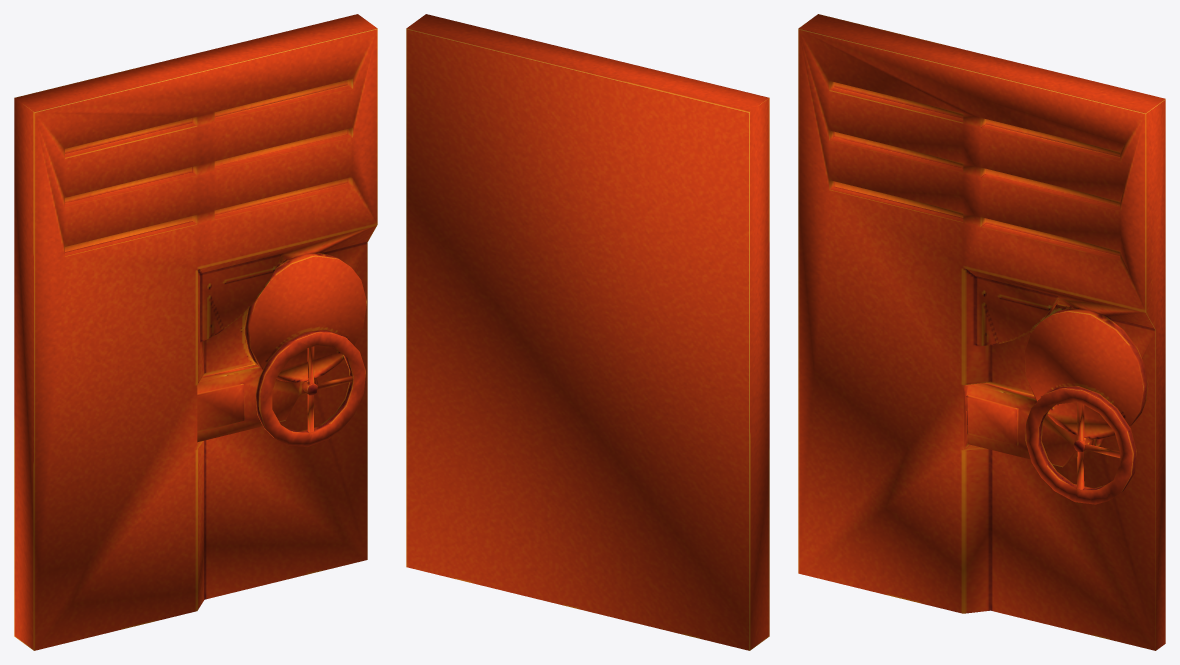
File: door_LOD1.fbx
The picture shows the model from 3 angles, left to right: view 1: azimuth 30°, elevation 25°; view 2: azimuth 150°, elevation 25°; view 3: azimuth 330°, elevation 25°; orthographic projection.
Visible parts, largest first — view 1: door_LOD1; view 2: door_LOD1; view 3: door_LOD1.
Part boxes in pixels (left/top/right/bottom): door_LOD1: left=14, top=14, right=377, bottom=650; door_LOD1: left=406, top=14, right=769, bottom=650; door_LOD1: left=798, top=14, right=1165, bottom=650.
Size of the model in its own units: 200 by 300 by 20.46.
